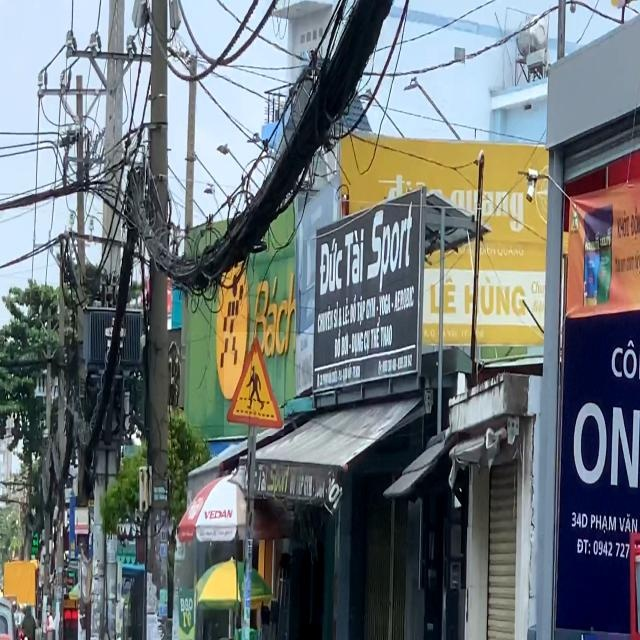bien_nguy_hiem: (224, 332, 284, 436)
